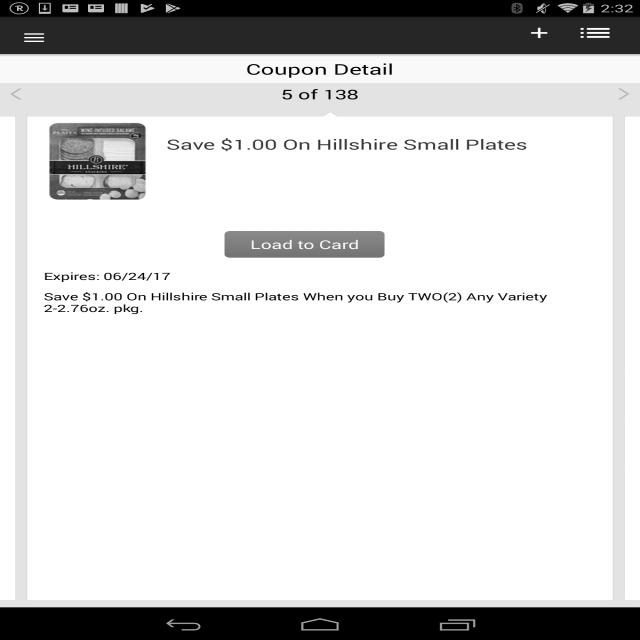Button: (219, 225, 390, 261)
ImageButton: (567, 20, 617, 43), (15, 26, 52, 44), (523, 24, 556, 41)
ImageView: (54, 124, 150, 200)
TextView: (39, 291, 549, 315), (168, 137, 534, 151), (243, 59, 395, 78), (43, 268, 184, 283), (276, 85, 366, 103)
